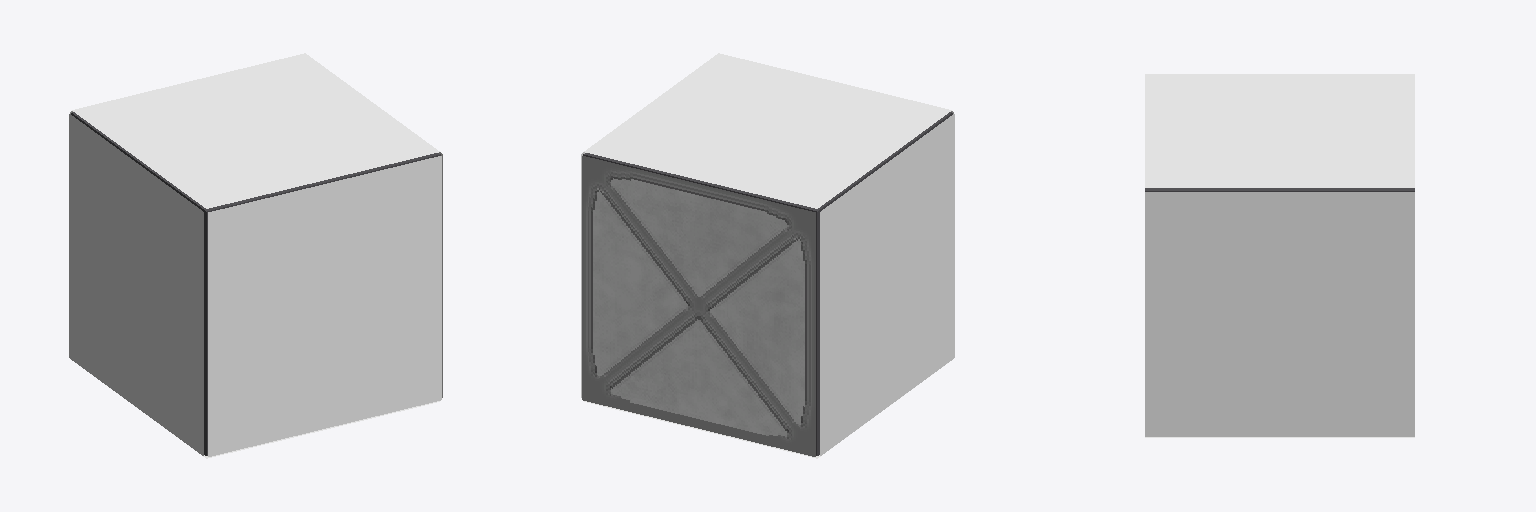
3 renders of one model, left to right at view 1: azimuth 30°, elevation 25°; view 2: azimuth 150°, elevation 25°; view 3: azimuth 270°, elevation 25°, orthographic.
Parts seen in each view (by area): view 1: Servo2, Servo5, Servo3, Servo1; view 2: Servo7, Servo5, Servo3, Servo1; view 3: Servo4, Servo3, Servo1.
Part boxes in pixels (left/top/right/bottom): Servo2: left=208, top=156, right=441, bottom=456; Servo5: left=69, top=114, right=203, bottom=455; Servo3: left=72, top=53, right=439, bottom=208; Servo1: left=71, top=112, right=440, bottom=455; Servo7: left=582, top=156, right=815, bottom=456; Servo5: left=820, top=114, right=954, bottom=455; Servo3: left=584, top=53, right=951, bottom=208; Servo1: left=583, top=112, right=952, bottom=455; Servo4: left=1145, top=192, right=1414, bottom=436; Servo3: left=1145, top=74, right=1414, bottom=187; Servo1: left=1145, top=188, right=1414, bottom=191.
Size of the model in its own units: 2.04 by 2.04 by 2.04.
Materials: 5 (1 with a texture image).